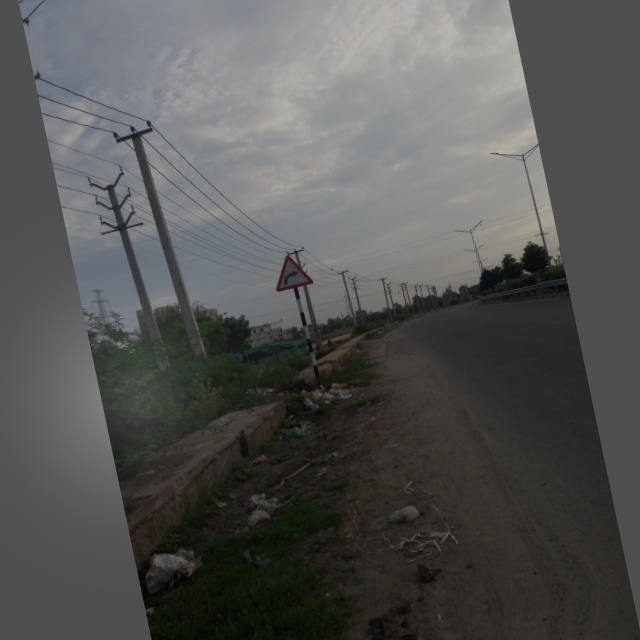Right_Hand_Curve: (270, 249, 316, 298)
